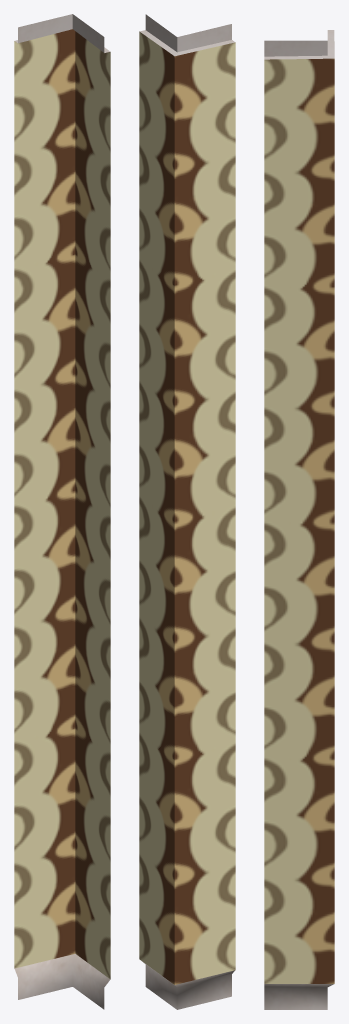
Rendered from MT_WP_ClosedCorner_Small.fbx.
The picture shows the model from 3 angles, left to right: view 1: azimuth 30°, elevation 25°; view 2: azimuth 210°, elevation 25°; view 3: azimuth 270°, elevation 25°; orthographic projection.
Parts seen in each view (by area): view 1: ClosedCorner_Small; view 2: ClosedCorner_Small; view 3: ClosedCorner_Small.
Part boxes in pixels (left/top/right/bottom): ClosedCorner_Small: left=14, top=14, right=110, bottom=1009; ClosedCorner_Small: left=139, top=14, right=235, bottom=1009; ClosedCorner_Small: left=264, top=30, right=334, bottom=1009.
Size of the model in its own units: 20.01 by 305 by 20.01.
